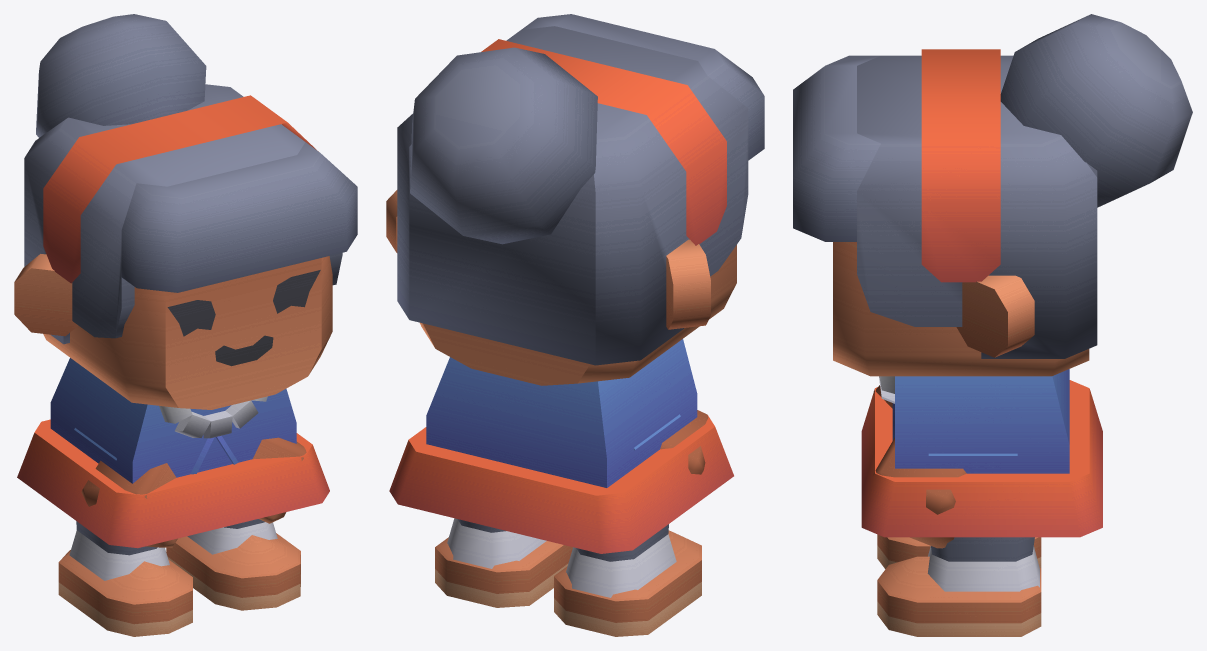
Rendered from character-female-c-cheer.glb.
The picture shows the model from 3 angles, left to right: view 1: azimuth 30°, elevation 25°; view 2: azimuth 150°, elevation 25°; view 3: azimuth 270°, elevation 25°; orthographic projection. The views are drawn at different scales.
Parts seen in each view (by area): view 1: character-female-c-cheer; view 2: character-female-c-cheer; view 3: character-female-c-cheer.
Boxes of the visible parts, x1=… form: character-female-c-cheer: x1=14, y1=14, x2=357, y2=636; character-female-c-cheer: x1=386, y1=14, x2=764, y2=636; character-female-c-cheer: x1=793, y1=14, x2=1192, y2=636.
Bounding box in the file's own units: 0.4535 × 0.7755 × 0.4995.
Materials: 1 (1 with a texture image).
